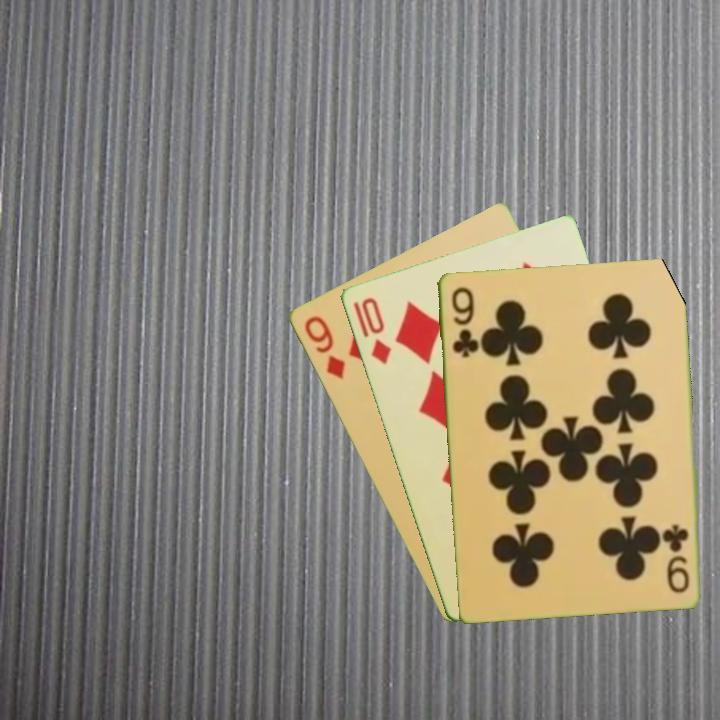10d: (357, 293, 394, 367)
9c: (448, 283, 478, 360), (662, 520, 692, 596)
9d: (300, 312, 348, 382)
